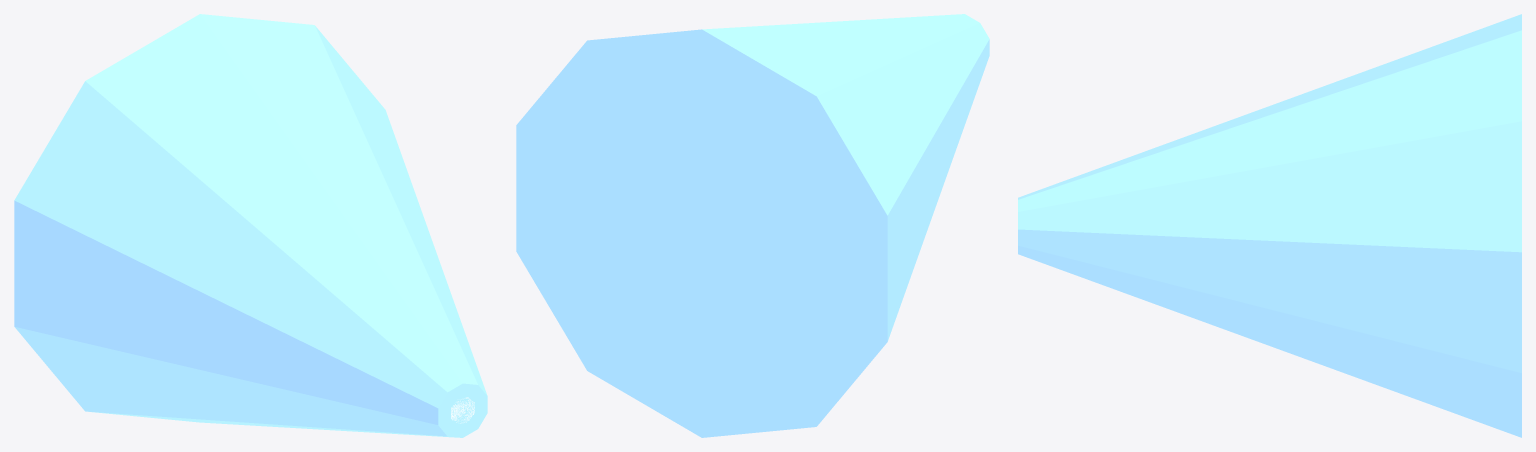
Rendered from flame.glb.
3 views of the same model, side by side, from view 1: azimuth 30°, elevation 25°; view 2: azimuth 150°, elevation 25°; view 3: azimuth 270°, elevation 25° (orthographic). The views are drawn at different scales.
Parts seen in each view (by area): view 1: flame; view 2: flame; view 3: flame.
Part boxes in pixels (box(x1,y1,x2,y2)): flame: box(14, 14, 487, 437); flame: box(516, 14, 989, 437); flame: box(1018, 14, 1521, 437).
Size of the model in its own units: 0.5706 by 0.6 by 0.7.
